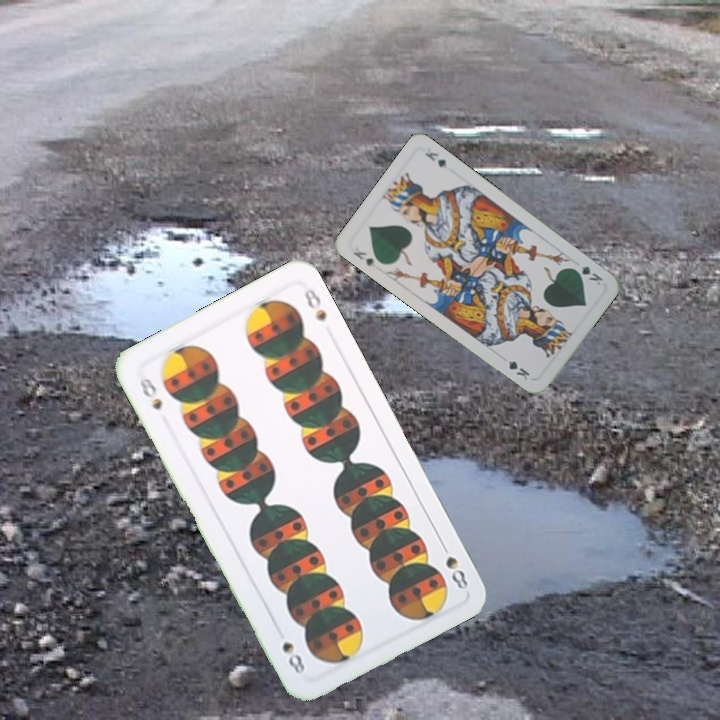GK: (568, 262, 606, 288), (349, 247, 379, 270)
S8: (436, 537, 471, 593), (135, 370, 165, 413)
